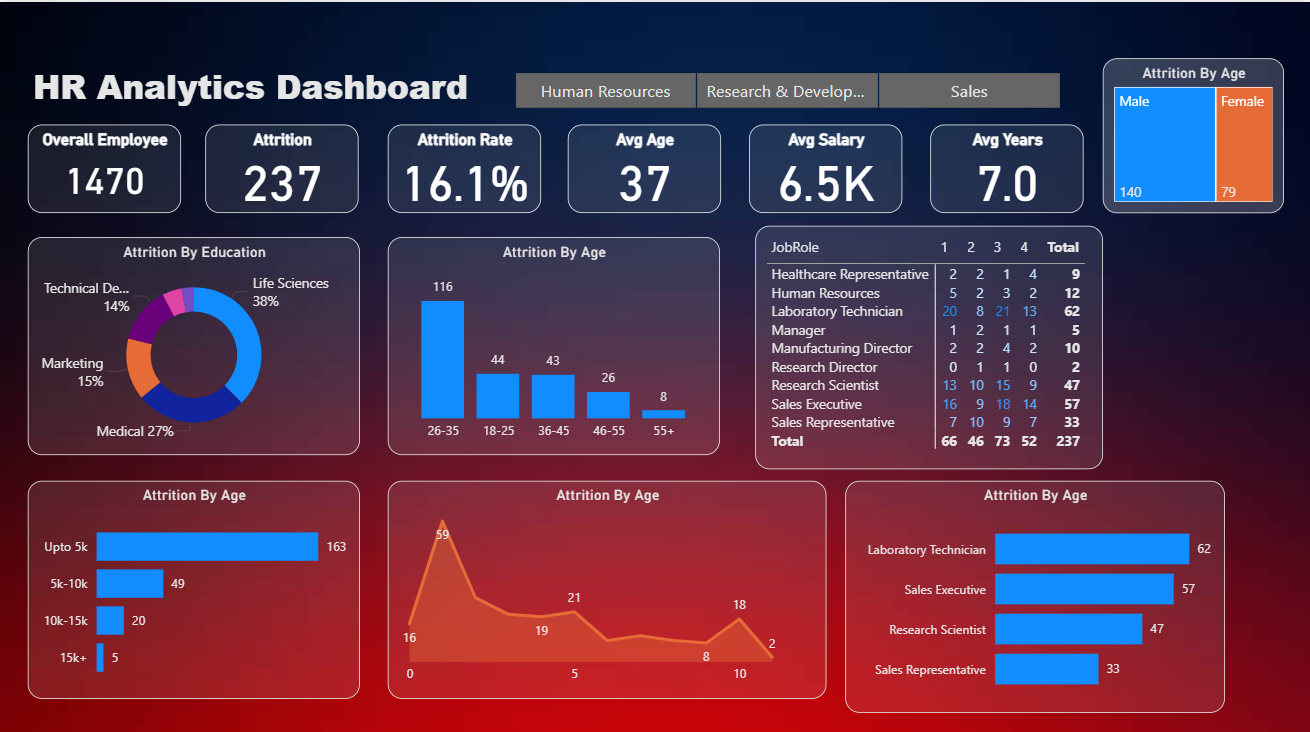

The dashboard page shown, as its layout file describes it:
{"tool":"powerbi","page":{"name":"Page 1","canvas":[1280,720],"ordinal":0},"visuals":[{"type":"card","title":"Overall Employee","fields":{"Values":["CountNonNull(HR_Analytics.EmpID)"]},"box":[27.4,119.4,149.6,86.4],"z":0},{"type":"card","title":"Attrition","fields":{"Values":["Sum(HR_Analytics.AttritionCount)"]},"box":[201.7,119.4,149.6,86.4],"z":1000},{"type":"card","title":"Attrition Rate","fields":{"Values":["HR_Analytics.AttritionRate"]},"box":[378.7,119.4,149.6,86.4],"z":2000},{"type":"card","title":"Avg Age","fields":{"Values":["Avg(HR_Analytics.Age)"]},"box":[554.4,119.4,149.6,86.4],"z":3000},{"type":"card","title":"Avg Years","fields":{"Values":["Avg(HR_Analytics.YearsAtCompany)"]},"box":[908.4,119.4,149.6,86.4],"z":4000},{"type":"card","title":"Avg Salary","fields":{"Values":["Avg(HR_Analytics.MonthlyIncome)"]},"box":[731.4,119.4,149.6,86.4],"z":5000},{"type":"donutChart","title":"Attrition By Education","fields":{"Y":["Sum(HR_Analytics.AttritionCount)"],"Category":["HR_Analytics.EducationField"]},"box":[27.4,229.2,323.8,212.7],"z":6000},{"type":"columnChart","title":"Attrition By Age","fields":{"Category":["HR_Analytics.AgeGroup"],"Y":["Sum(HR_Analytics.AttritionCount)"]},"box":[378.7,229.2,323.8,212.7],"z":7000},{"type":"pivotTable","fields":{"Rows":["HR_Analytics.JobRole"],"Columns":["HR_Analytics.JobSatisfaction"],"Values":["Sum(HR_Analytics.AttritionCount)"]},"box":[738.3,218.2,338.9,237.4],"z":8000},{"type":"barChart","title":"Attrition By Age","fields":{"Category":["HR_Analytics.SalarySlab"],"Y":["Sum(HR_Analytics.AttritionCount)"]},"box":[27.4,466.6,323.8,212.7],"z":9000},{"type":"barChart","title":"Attrition By Age","fields":{"Category":["HR_Analytics.JobRole"],"Y":["Sum(HR_Analytics.AttritionCount)"]},"box":[826.1,466.6,370.5,226.4],"z":10000},{"type":"areaChart","title":"Attrition By Age","fields":{"Category":["HR_Analytics.YearsAtCompany"],"Y":["Sum(HR_Analytics.AttritionCount)"]},"box":[378.7,466.6,428.1,212.7],"z":11000},{"type":"treemap","title":"Attrition By Age","fields":{"Group":["HR_Analytics.Gender"],"Values":["Sum(HR_Analytics.AttritionCount)"]},"box":[1077.2,54.9,177,150.9],"z":12000},{"type":"slicer","fields":{"Values":["HR_Analytics.Department"]},"box":[477.5,61.7,580.4,48],"z":13000},{"type":"textbox","box":[27.4,54.9,500.9,59],"z":14000}]}

Visuals, with their boxes in screenshot pixels (x1, y1, x2, y2), scaled from the page's 1280x720 canvas onto the 1310x732 screenshot:
"Overall Employee" card: bbox=[28, 121, 181, 209]
"Attrition" card: bbox=[206, 121, 360, 209]
"Attrition Rate" card: bbox=[388, 121, 541, 209]
"Avg Age" card: bbox=[567, 121, 720, 209]
"Avg Years" card: bbox=[930, 121, 1083, 209]
"Avg Salary" card: bbox=[749, 121, 902, 209]
"Attrition By Education" donutChart: bbox=[28, 233, 359, 449]
"Attrition By Age" columnChart: bbox=[388, 233, 719, 449]
pivotTable - HR_Analytics.JobRole x HR_Analytics.JobSatisfaction: bbox=[756, 222, 1102, 463]
"Attrition By Age" barChart: bbox=[28, 474, 359, 691]
"Attrition By Age" barChart: bbox=[845, 474, 1225, 705]
"Attrition By Age" areaChart: bbox=[388, 474, 826, 691]
"Attrition By Age" treemap: bbox=[1102, 56, 1284, 209]
slicer - HR_Analytics.Department: bbox=[489, 63, 1083, 112]
textbox: bbox=[28, 56, 541, 116]
